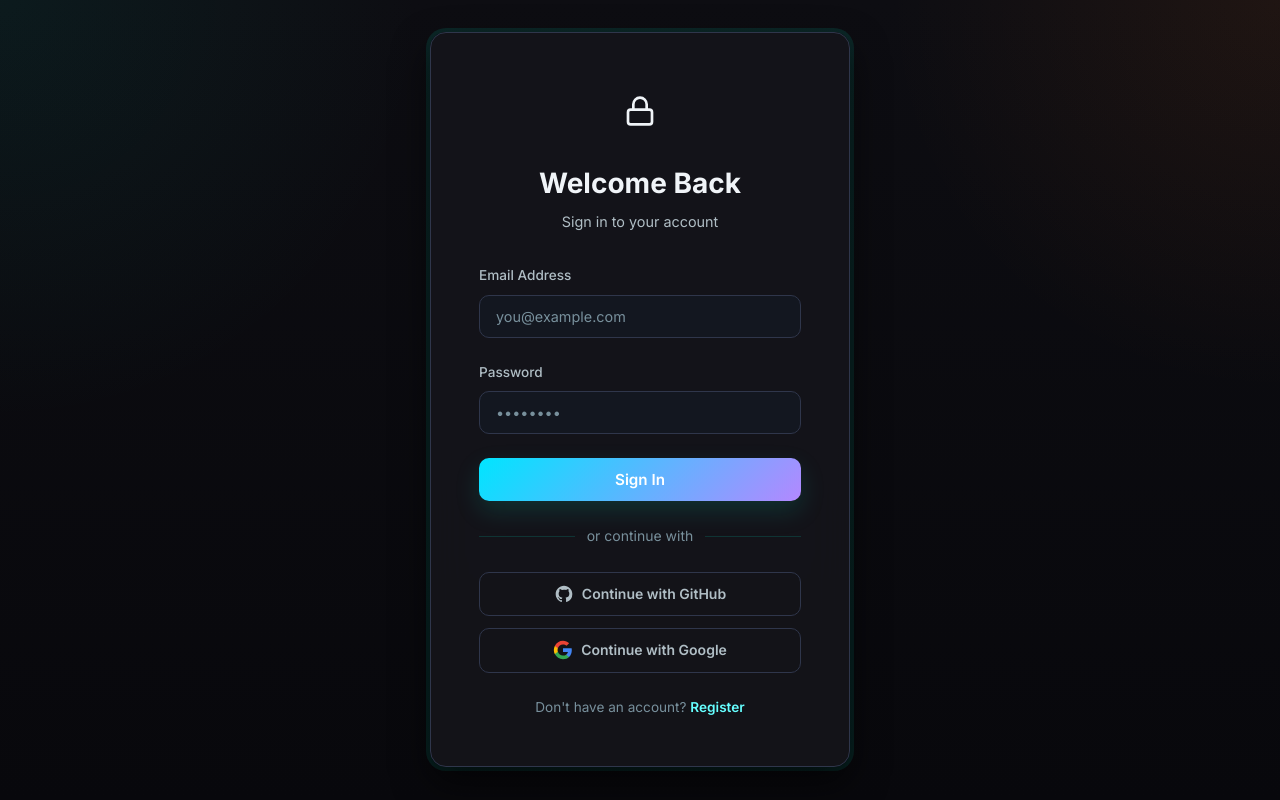
Test case: Login Component › shows error when fields are empty
Click the button "Sign In" at (640, 480), box [479,458,801,501]
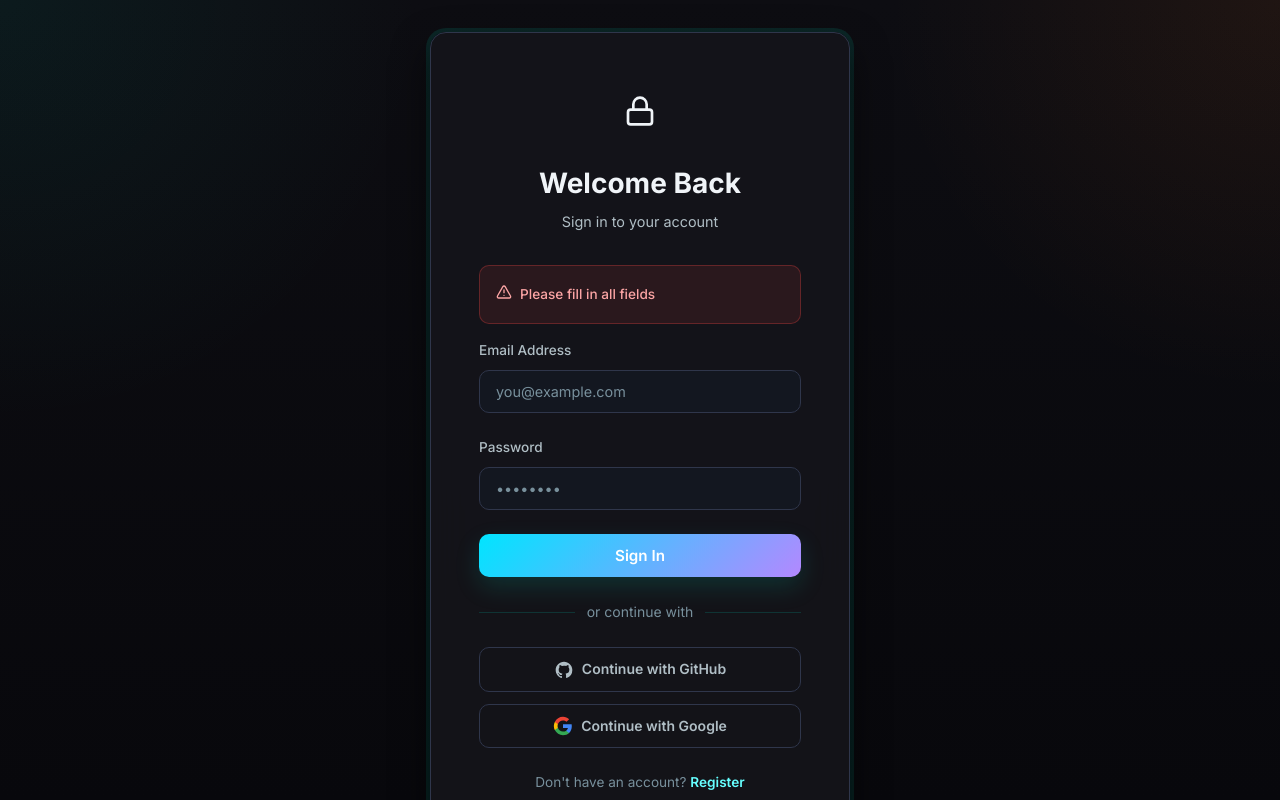
Expected: the text "Please fill in all fields" is shown, [479,265,801,324]
